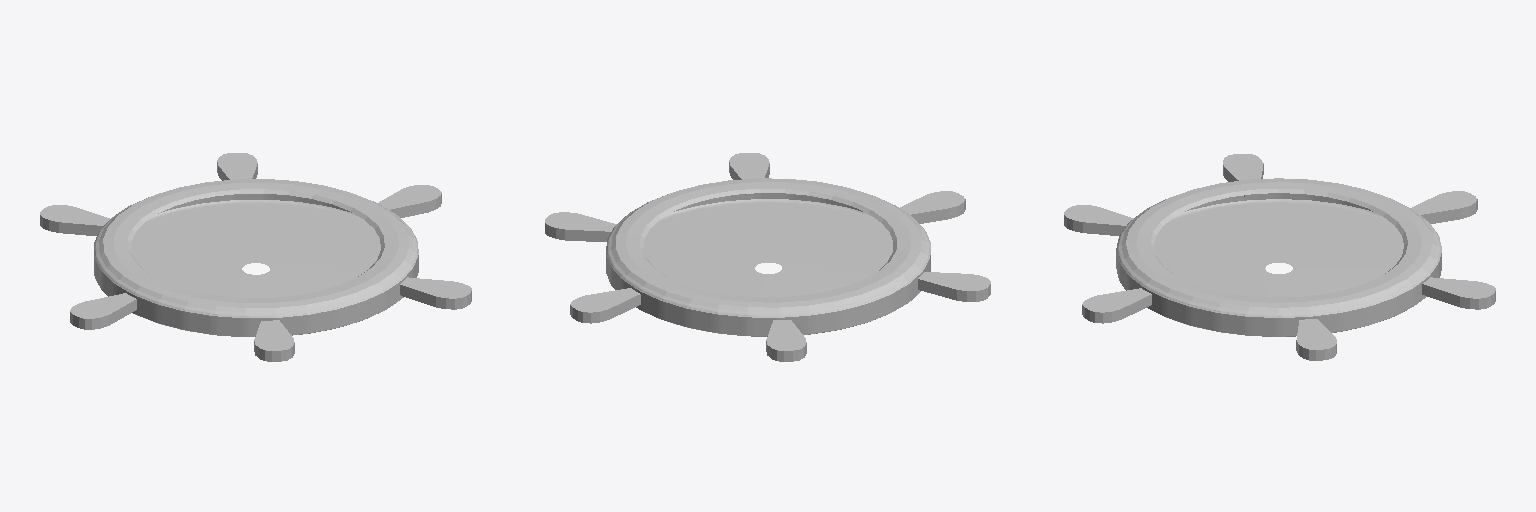
Rendered from meja2-1.obj.
3 views of the same model, side by side, from view 1: azimuth 30°, elevation 25°; view 2: azimuth 150°, elevation 25°; view 3: azimuth 270°, elevation 25° (orthographic).
Visible parts, largest first — view 1: Cube.071_Cube.346_Cube.071_Cube.001; view 2: Cube.071_Cube.346_Cube.071_Cube.001; view 3: Cube.071_Cube.346_Cube.071_Cube.001.
Boxes of the visible parts, box(x1,y1,x2,y2) form: Cube.071_Cube.346_Cube.071_Cube.001: box(40, 153, 471, 361); Cube.071_Cube.346_Cube.071_Cube.001: box(545, 153, 990, 361); Cube.071_Cube.346_Cube.071_Cube.001: box(1064, 154, 1495, 360).
Size of the model in its own units: 5.53 by 0.3525 by 5.15.